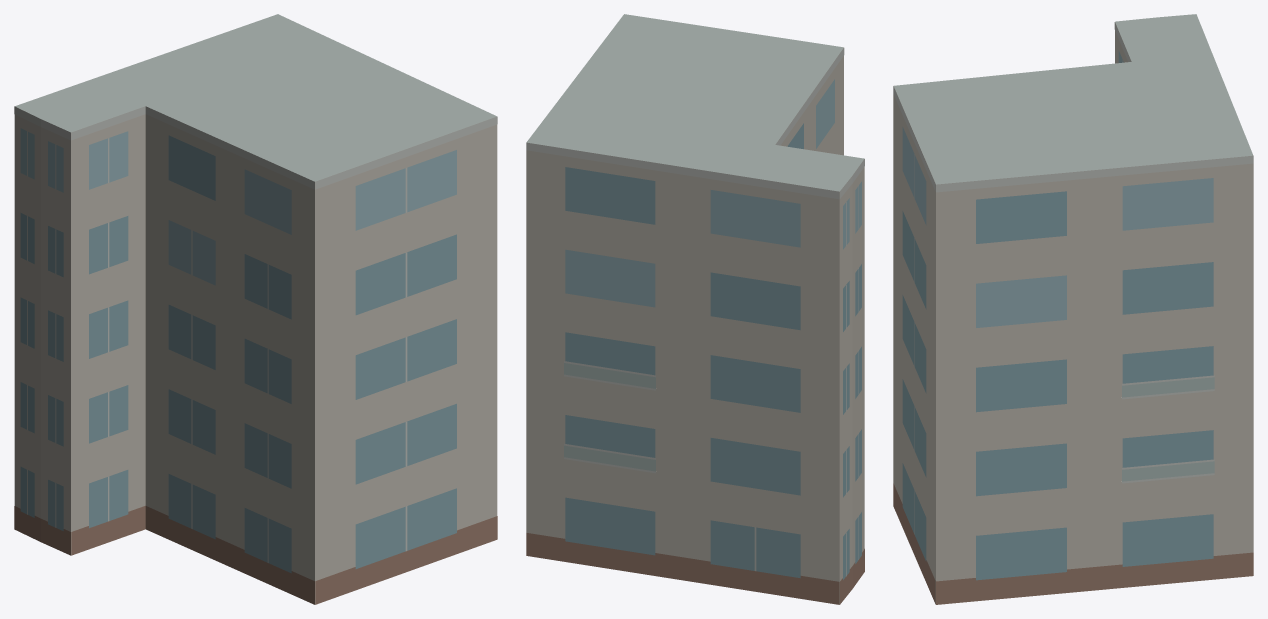
Rendered from survey-upis-32592111.glb.
The picture shows the model from 3 angles, left to right: view 1: azimuth 30°, elevation 25°; view 2: azimuth 150°, elevation 25°; view 3: azimuth 270°, elevation 25°; orthographic projection. The views are drawn at different scales.
Parts seen in each view (by area): view 1: survey-upis-32592111.tmp; view 2: survey-upis-32592111.tmp; view 3: survey-upis-32592111.tmp.
Boxes of the visible parts, x1=… form: survey-upis-32592111.tmp: x1=14, y1=14, x2=497, y2=604; survey-upis-32592111.tmp: x1=526, y1=14, x2=864, y2=604; survey-upis-32592111.tmp: x1=893, y1=14, x2=1253, y2=604.
Bounding box in the file's own units: 11.32 × 13 × 10.1.
